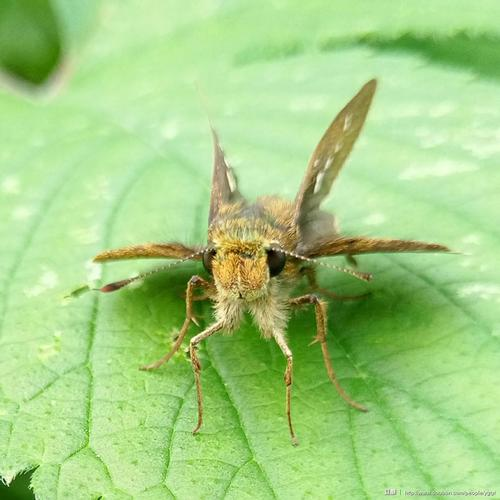Hesperiidae: (90, 79, 457, 444)
